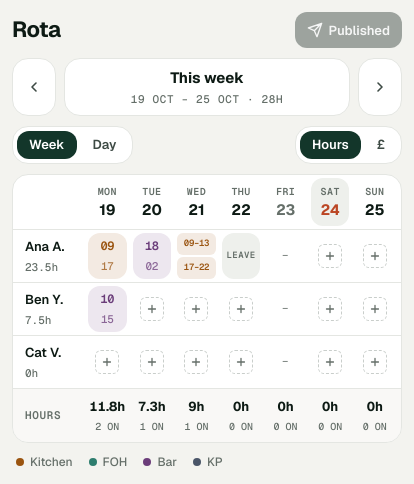
Test case: phone rota grid (RotaMobileGrid) — week view › CHANGED: cost uses the venue break and the under-18 rule, same as desktop
Expected: the text "Ana A." is shown, [25, 238, 64, 255]
Click the radio button labelled "£".
click(381, 145)  # box [365, 131, 397, 159]
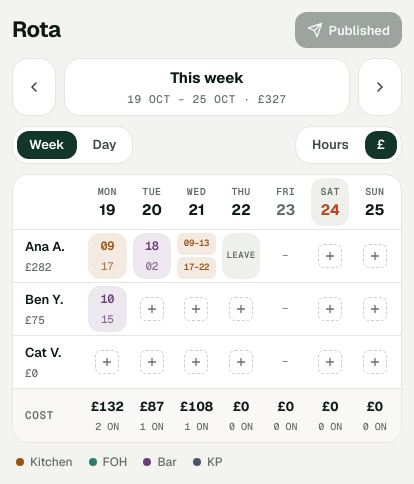
Now the text "Ana A." shows "£282", box [25, 260, 51, 274]
Now the text "Ben Y." shows "£75", box [25, 313, 45, 327]
